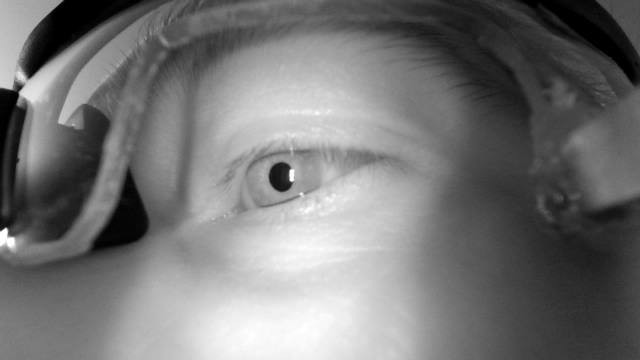pupil: (268, 161, 295, 193)
